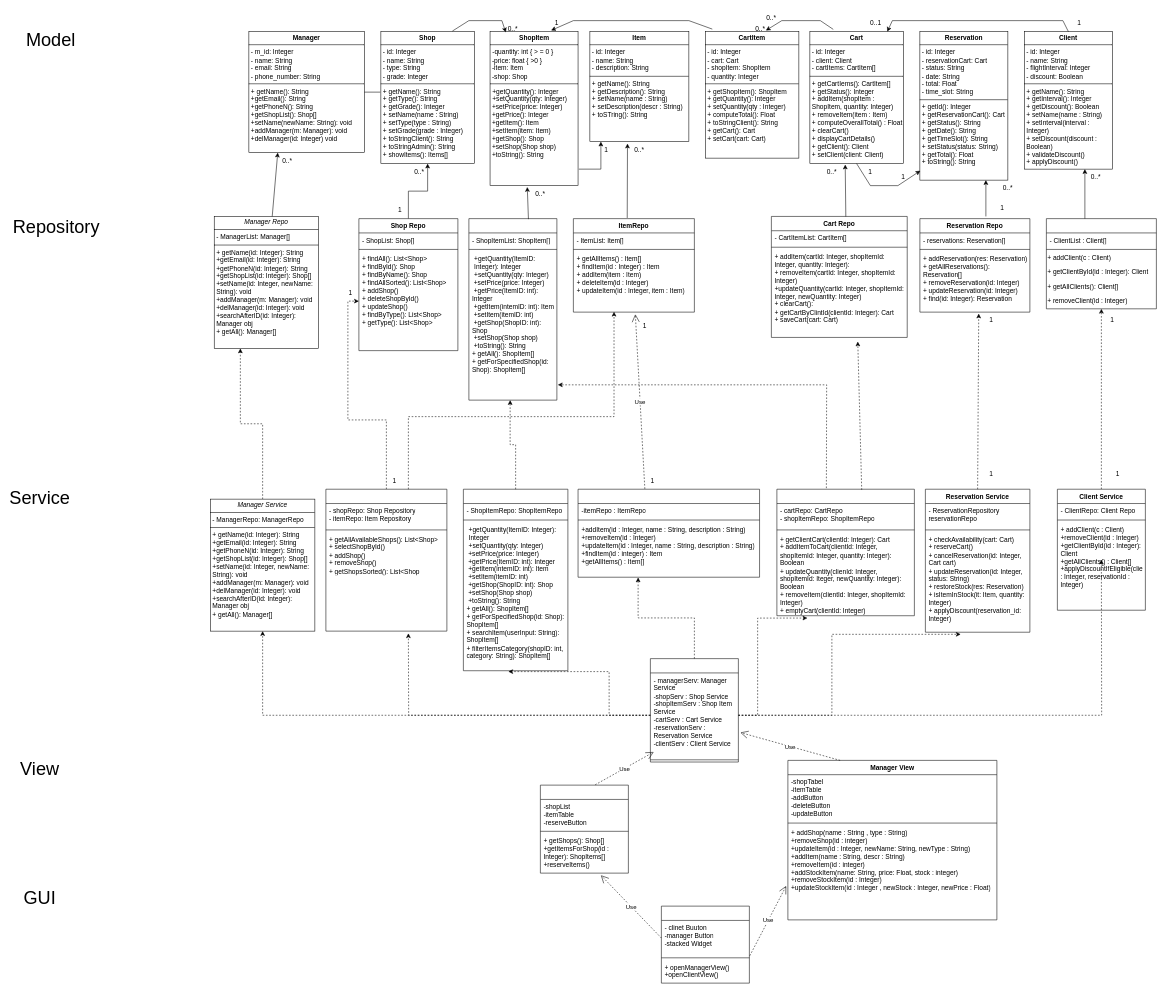
Some shapes in this 1166 by 994 pixel diagram are drawn without their labels. Here are the shapes that lost their labels. From the top down, the box of each, then its label:
(1046, 218, 1156, 309): Client Repo
(468, 218, 557, 400): ShopItem Repo
(578, 489, 760, 577): ItemService
(776, 489, 914, 616): Cart Service
(325, 489, 447, 631): Shop Service
(463, 489, 568, 671): ShopItem Service
(650, 658, 738, 762): Application Service
(540, 785, 628, 873): Client View
(661, 906, 749, 983): MainWindow
